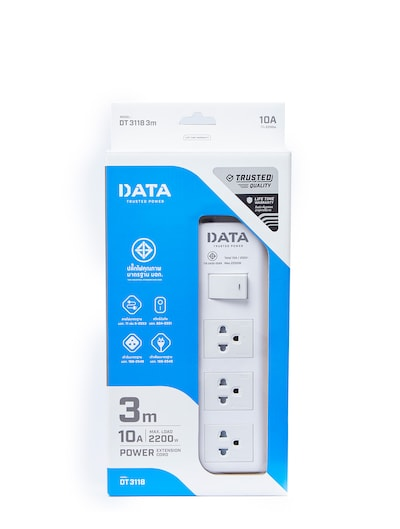Three_eye_plug: (191, 214, 274, 479)
